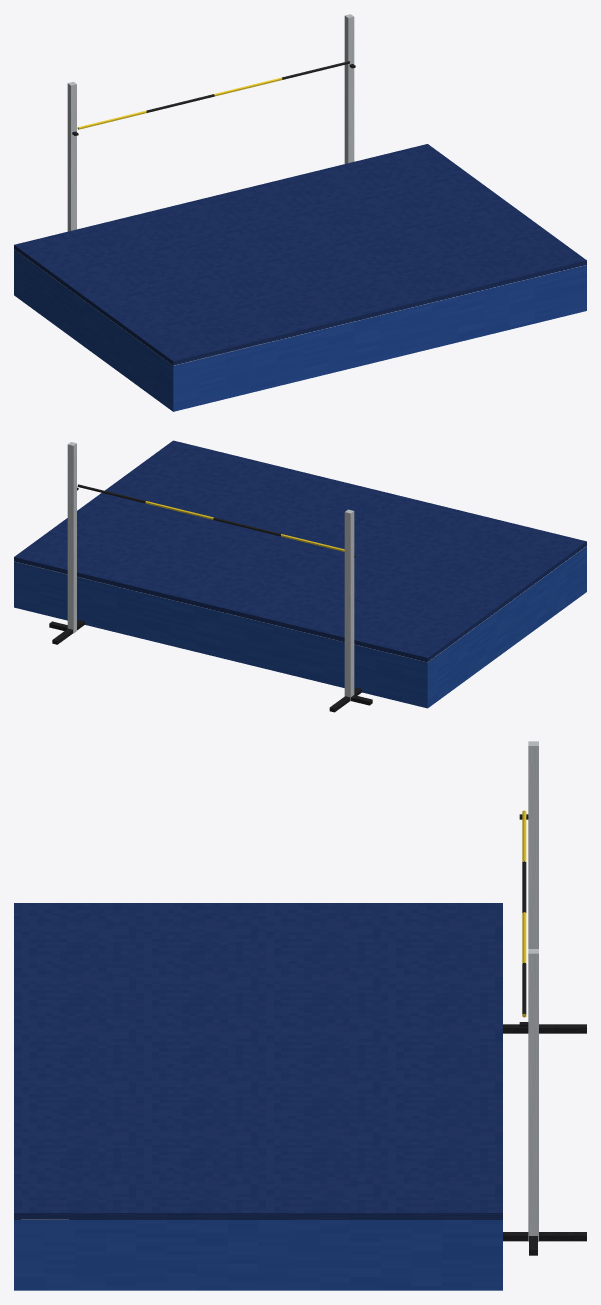
The model's file is high_jump.obj.
3 views of the same model, one above another, from view 1: azimuth 30°, elevation 25°; view 2: azimuth 150°, elevation 25°; view 3: azimuth 270°, elevation 25° (orthographic). The views are drawn at different scales.
Visible parts, largest first — view 1: high_jump; view 2: high_jump; view 3: high_jump.
Part boxes in pixels (x1=…): high_jump: x1=14, y1=14, x2=586, y2=411; high_jump: x1=14, y1=440, x2=586, y2=712; high_jump: x1=14, y1=741, x2=586, y2=1290.
Bounding box in the file's own units: 6 × 2.6 × 4.69.
